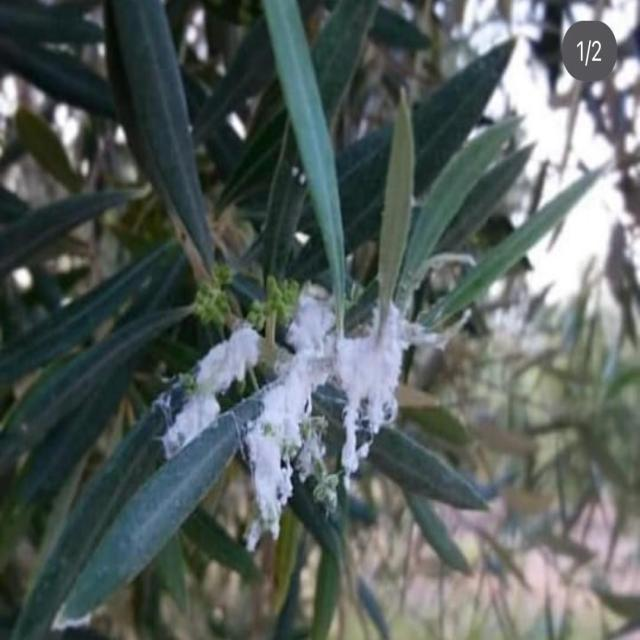Psyllid: (245, 293, 449, 549), (154, 323, 263, 458)
